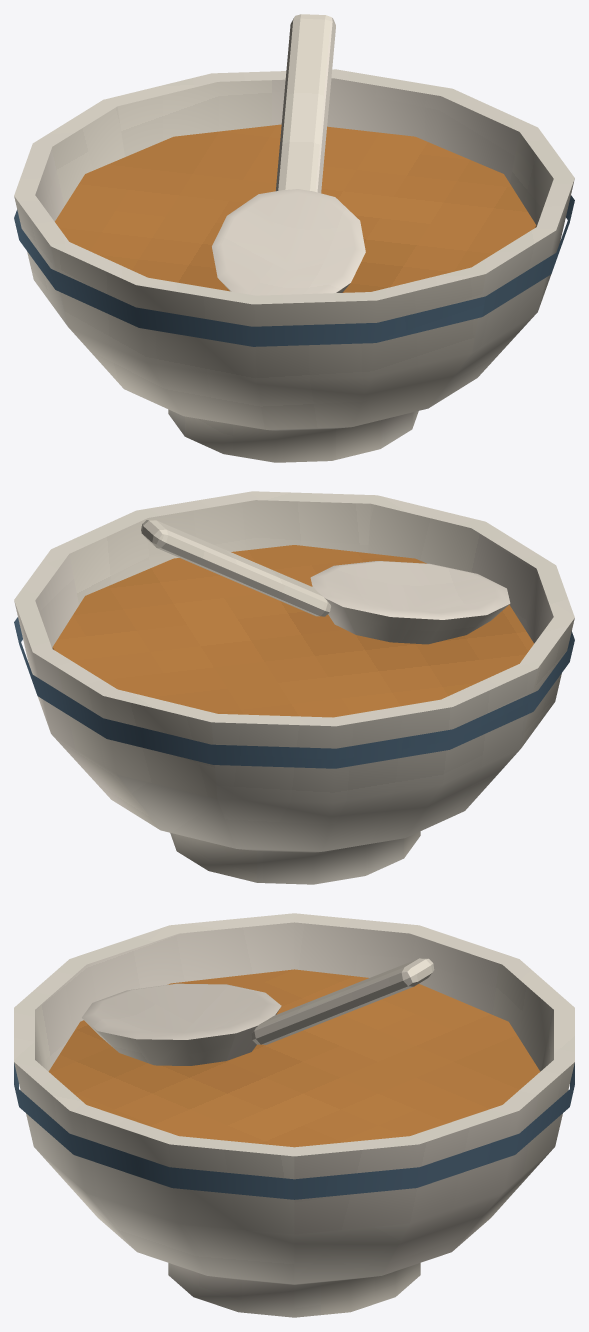
File: bowl_soup.glb
The picture shows the model from 3 angles, top to bottom: view 1: azimuth 30°, elevation 25°; view 2: azimuth 150°, elevation 25°; view 3: azimuth 270°, elevation 25°; orthographic projection. The views are drawn at different scales.
Parts seen in each view (by area): view 1: bowl_soup; view 2: bowl_soup; view 3: bowl_soup.
Part boxes in pixels (x1=…): bowl_soup: x1=14, y1=14, x2=574, y2=462; bowl_soup: x1=14, y1=491, x2=574, y2=884; bowl_soup: x1=14, y1=913, x2=574, y2=1317.
Bounding box in the file's own units: 0.16 × 0.1041 × 0.156.
3 materials, 3 textured.
